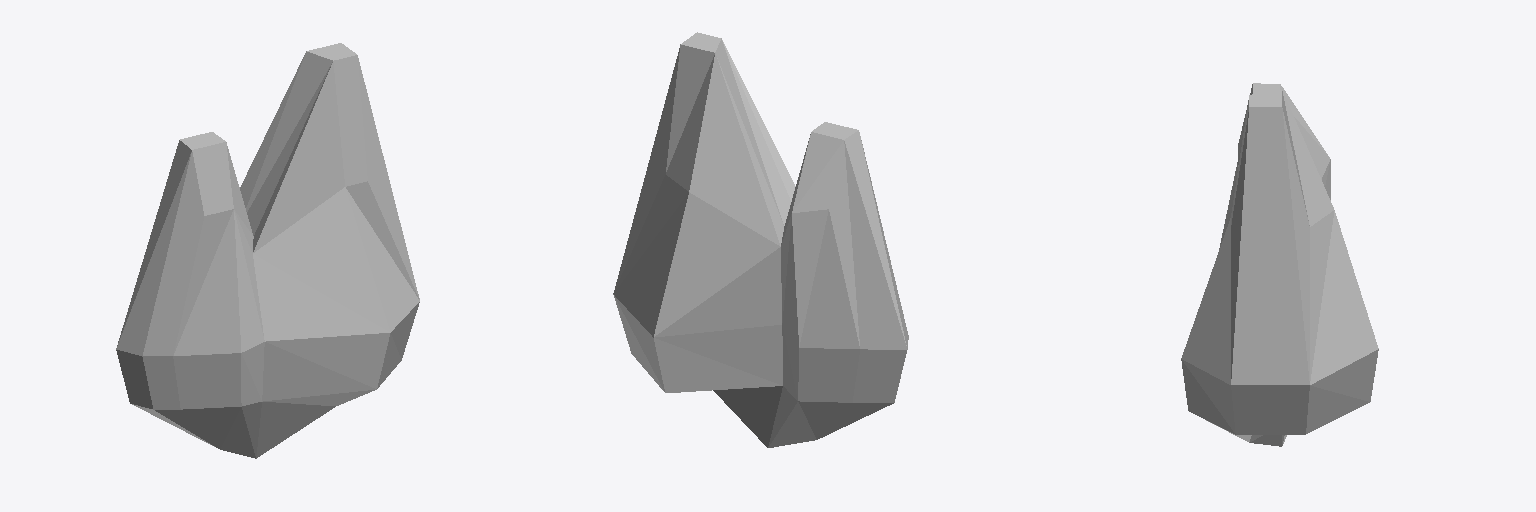
Rendered from model_pillar_3.obj.
3 renders of one model, left to right at view 1: azimuth 30°, elevation 25°; view 2: azimuth 150°, elevation 25°; view 3: azimuth 270°, elevation 25°, orthographic.
Parts seen in each view (by area): view 1: obj_pillar_4; view 2: obj_pillar_4; view 3: obj_pillar_4.
Boxes of the visible parts, x1=… form: obj_pillar_4: x1=116, y1=43, x2=419, y2=458; obj_pillar_4: x1=613, y1=32, x2=908, y2=447; obj_pillar_4: x1=1181, y1=83, x2=1378, y2=446.
Size of the model in its own units: 12.17 by 15.93 by 7.46.